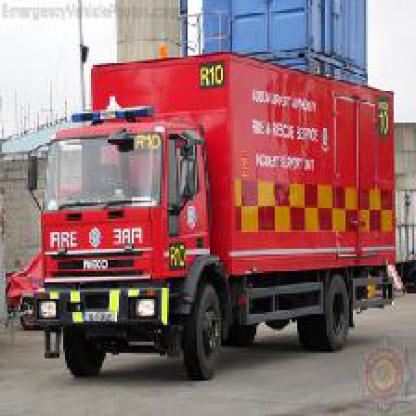emergency: (11, 54, 411, 386)
